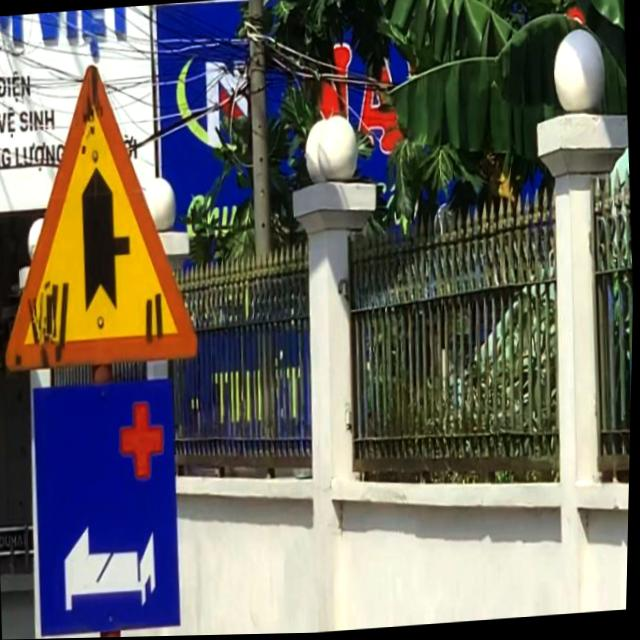Giao nhau voi duong khong uu tien ben phai: (0, 55, 207, 378)
